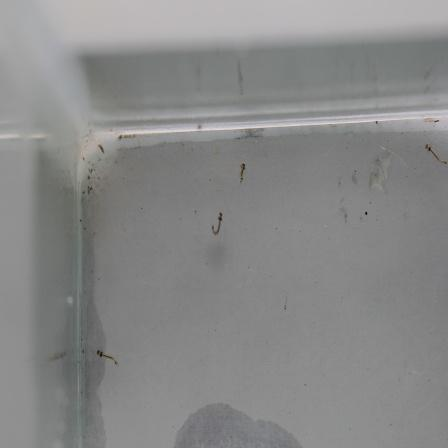Jentik-Nyamuk: (422, 138, 448, 170), (94, 345, 122, 372), (206, 208, 227, 238), (233, 158, 253, 188)
